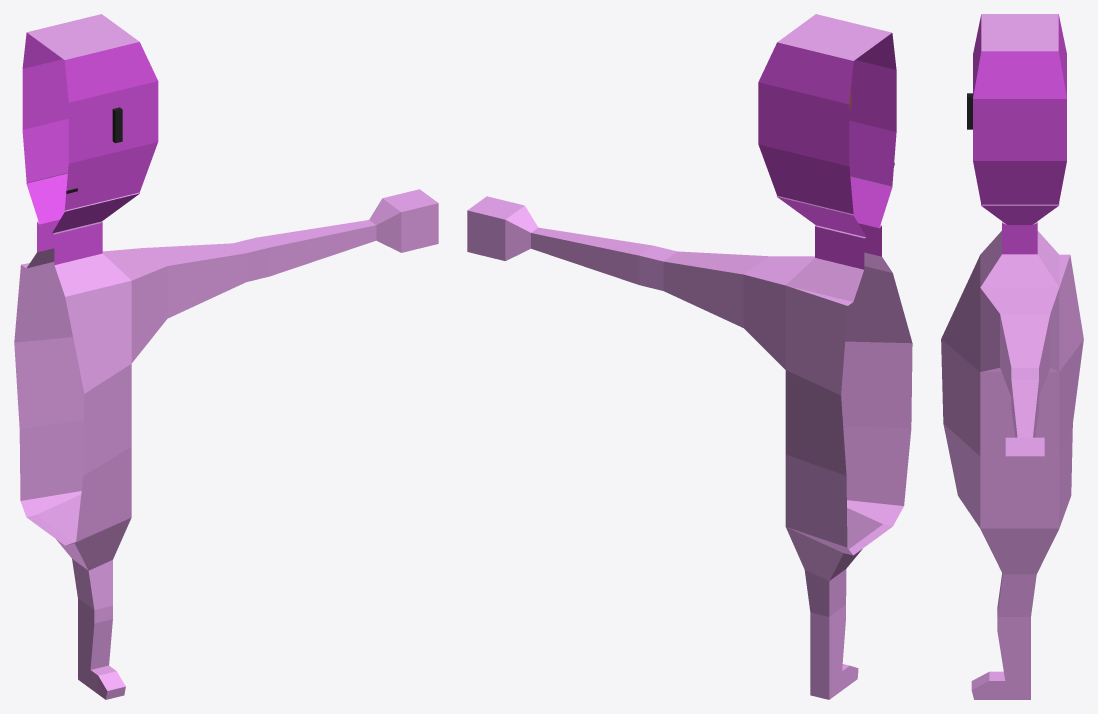
The model's file is low_poly_character.glb.
The picture shows the model from 3 angles, left to right: view 1: azimuth 30°, elevation 25°; view 2: azimuth 150°, elevation 25°; view 3: azimuth 270°, elevation 25°; orthographic projection.
Parts seen in each view (by area): view 1: Cube; view 2: Cube; view 3: Cube.
Part boxes in pixels (bbox=[...]): Cube: bbox=[14, 14, 438, 699]; Cube: bbox=[467, 14, 912, 699]; Cube: bbox=[941, 14, 1083, 699].
Bounding box in the file's own units: 1.98 × 3.17 × 0.6234.
Materials: 1 (1 with a texture image).
